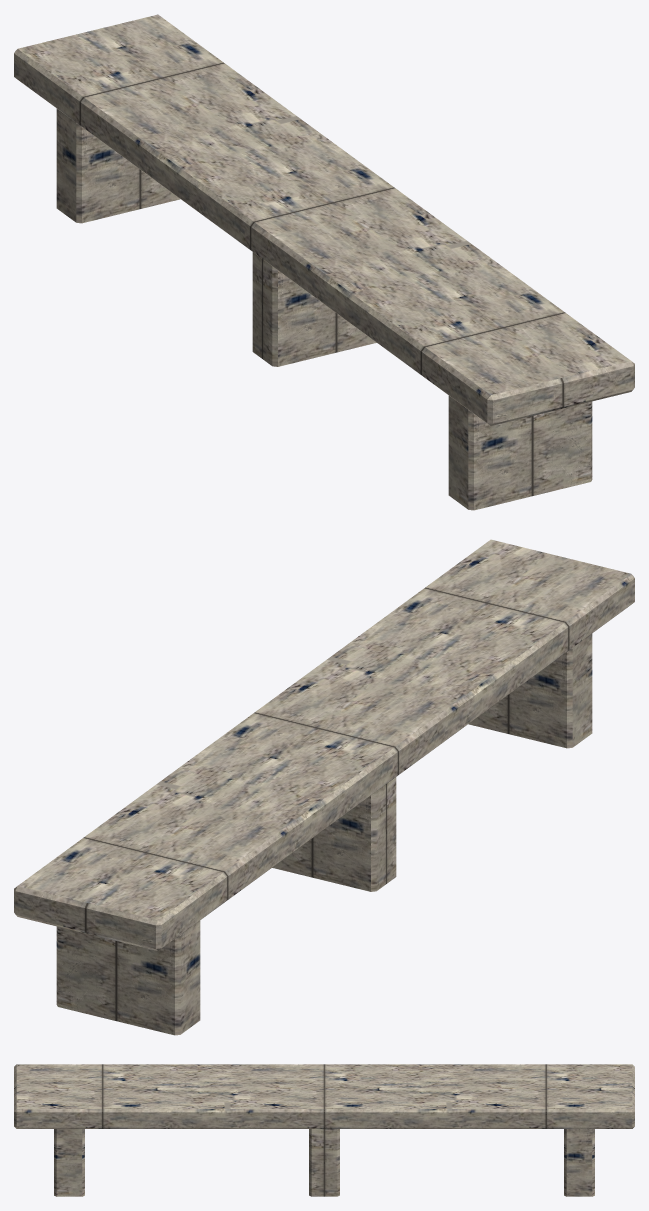
The model's file is SM_Morin_Panchina_LOD1.fbx.
3 views of the same model, one above another, from view 1: azimuth 30°, elevation 25°; view 2: azimuth 150°, elevation 25°; view 3: azimuth 270°, elevation 25° (orthographic). The views are drawn at different scales.
Visible parts, largest first — view 1: SM_Morin_Panchina_LOD1; view 2: SM_Morin_Panchina_LOD1; view 3: SM_Morin_Panchina_LOD1.
Boxes of the visible parts, <box> form: SM_Morin_Panchina_LOD1: <box>14,14,634,510</box>; SM_Morin_Panchina_LOD1: <box>14,539,634,1035</box>; SM_Morin_Panchina_LOD1: <box>14,1064,634,1196</box>.
Bounding box in the file's own units: 50 × 280 × 45.
1 material, 1 textured.
